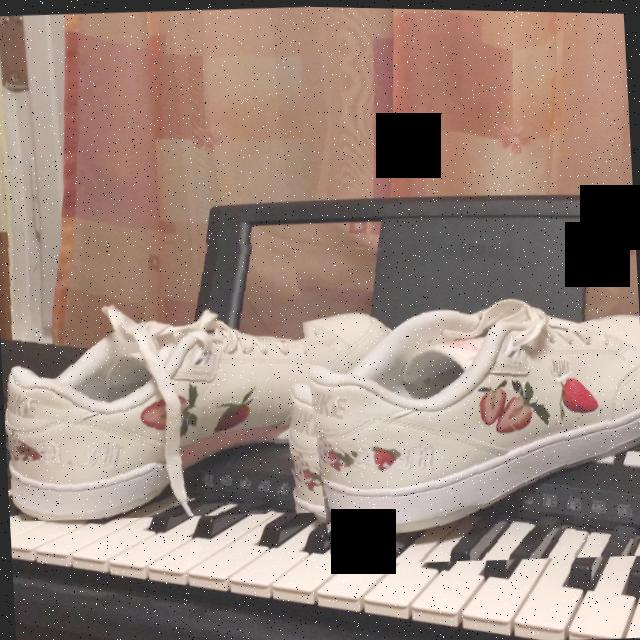shoe: (0, 216, 402, 528), (294, 230, 640, 569)
